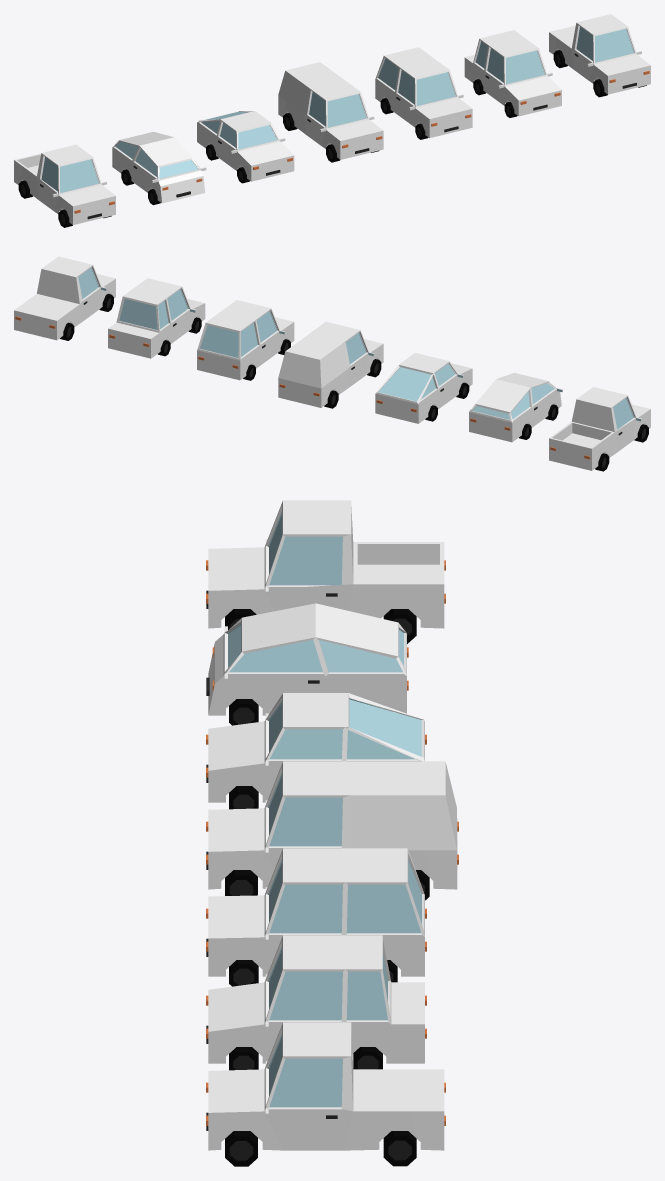
The model's file is lowpolycars.fbx.
3 renders of one model, top to bottom at view 1: azimuth 30°, elevation 25°; view 2: azimuth 150°, elevation 25°; view 3: azimuth 270°, elevation 25°, orthographic. The views are drawn at different scales.
Visible parts, largest first — view 1: CarSample2.001, CarSample.001, CarSample, CarSample2.002, CarSample2, CarSample.002, CarSample.004; view 2: CarSample2.001, CarSample2.002, CarSample.001, CarSample2, CarSample, CarSample.002, CarSample.004; view 3: CarSample2, CarSample2.001, CarSample2.002, CarSample.001, CarSample, CarSample.004, CarSample.002.
Boxes of the visible parts, bbox=[...] form: CarSample2.001: bbox=[278, 62, 383, 162]; CarSample.001: bbox=[375, 47, 472, 139]; CarSample: bbox=[464, 30, 561, 117]; CarSample2.002: bbox=[14, 144, 115, 227]; CarSample2: bbox=[549, 14, 650, 97]; CarSample.002: bbox=[197, 111, 294, 183]; CarSample.004: bbox=[112, 131, 206, 205]; CarSample2.001: bbox=[278, 321, 383, 408]; CarSample2.002: bbox=[549, 387, 650, 471]; CarSample.001: bbox=[197, 300, 294, 380]; CarSample2: bbox=[14, 256, 115, 340]; CarSample: bbox=[108, 278, 205, 358]; CarSample.002: bbox=[375, 353, 472, 423]; CarSample.004: bbox=[469, 373, 562, 442]; CarSample2: bbox=[206, 1022, 445, 1166]; CarSample2.001: bbox=[206, 761, 458, 900]; CarSample2.002: bbox=[206, 500, 445, 643]; CarSample.001: bbox=[206, 848, 426, 986]; CarSample: bbox=[206, 935, 426, 1070]; CarSample.004: bbox=[206, 603, 408, 725]; CarSample.002: bbox=[206, 693, 426, 809].
Bounding box in the file's own units: 1980 × 168 × 369.
